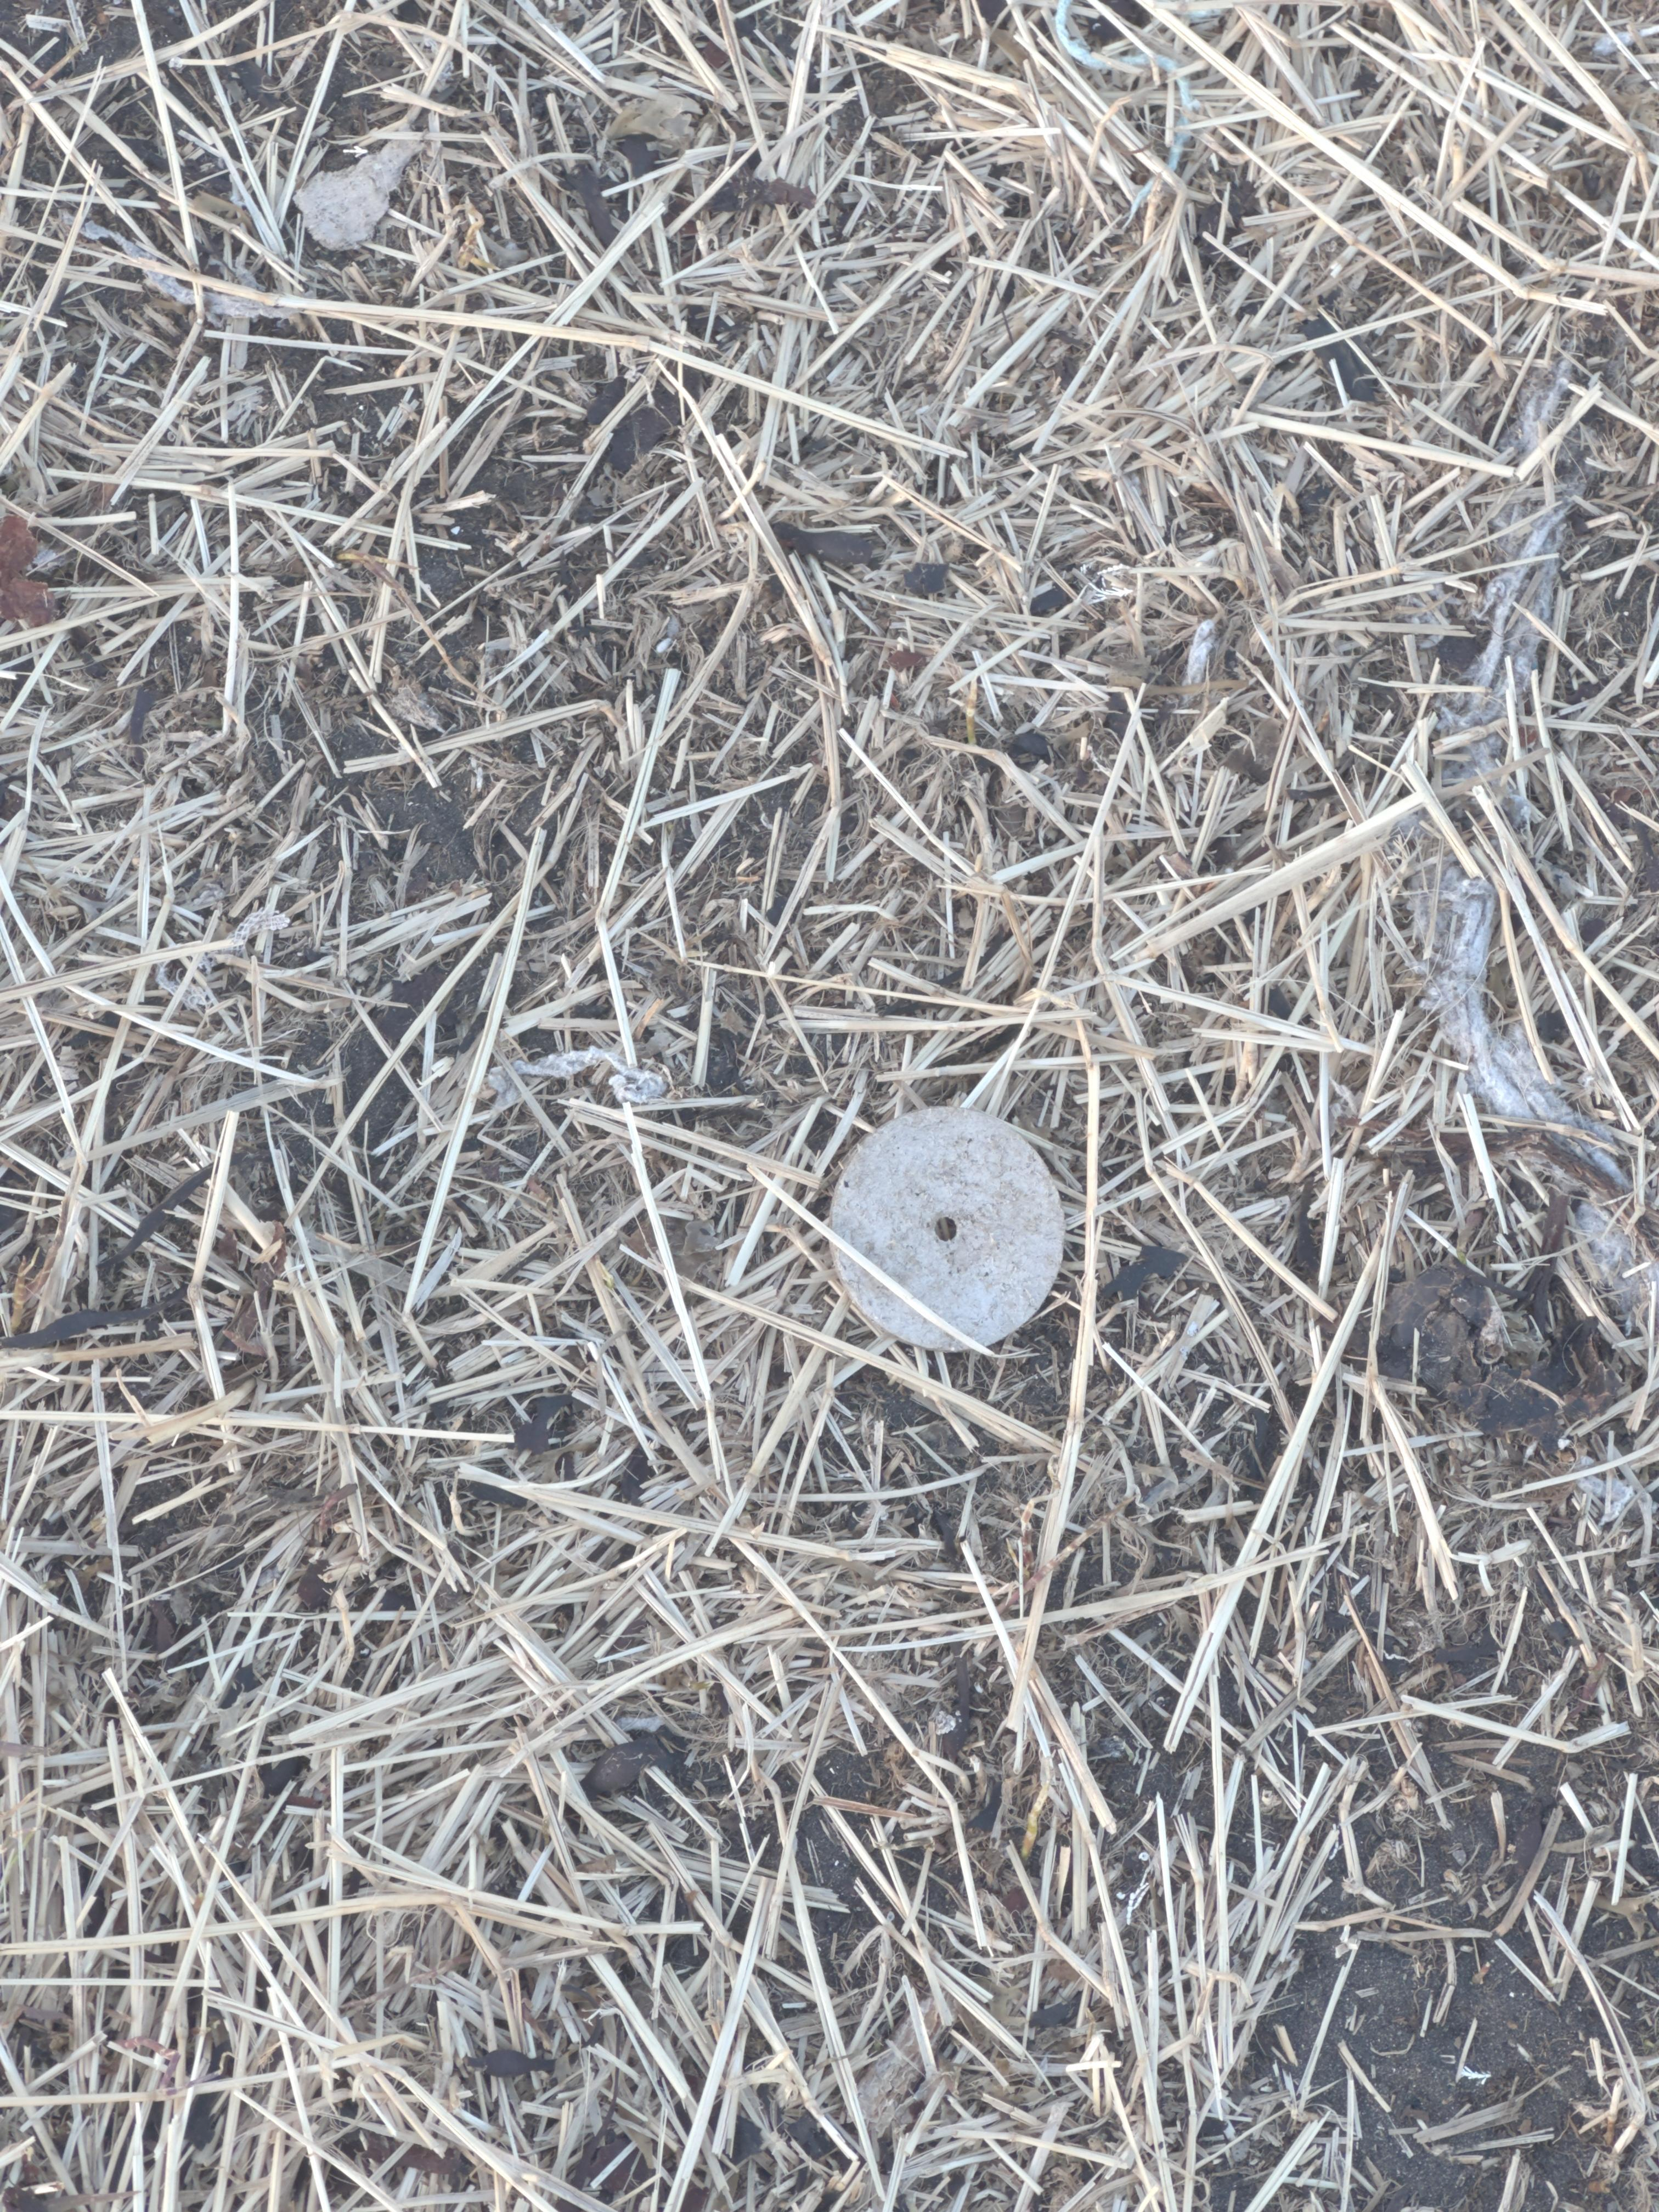trash: (1421, 860, 1655, 1318), (830, 1106, 1063, 1348), (1443, 449, 1581, 735), (834, 1253, 959, 1352), (1516, 367, 1568, 449)
